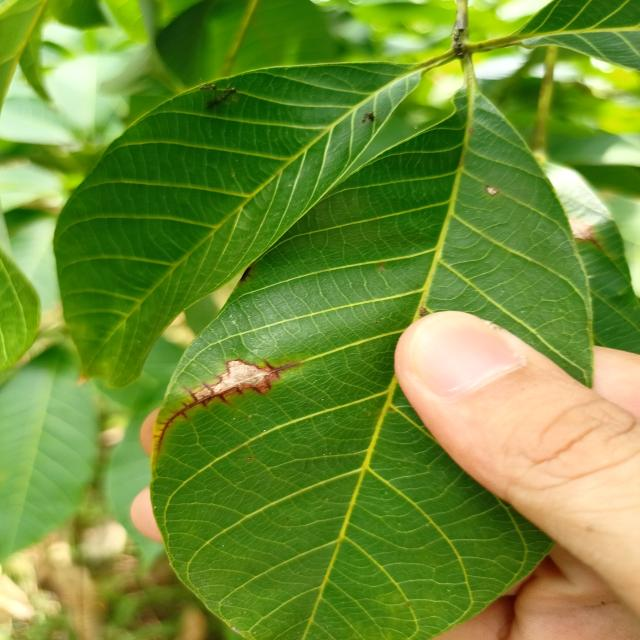Corynespora: (154, 358, 302, 452)
Leaf-Blight: (210, 361, 272, 394)
